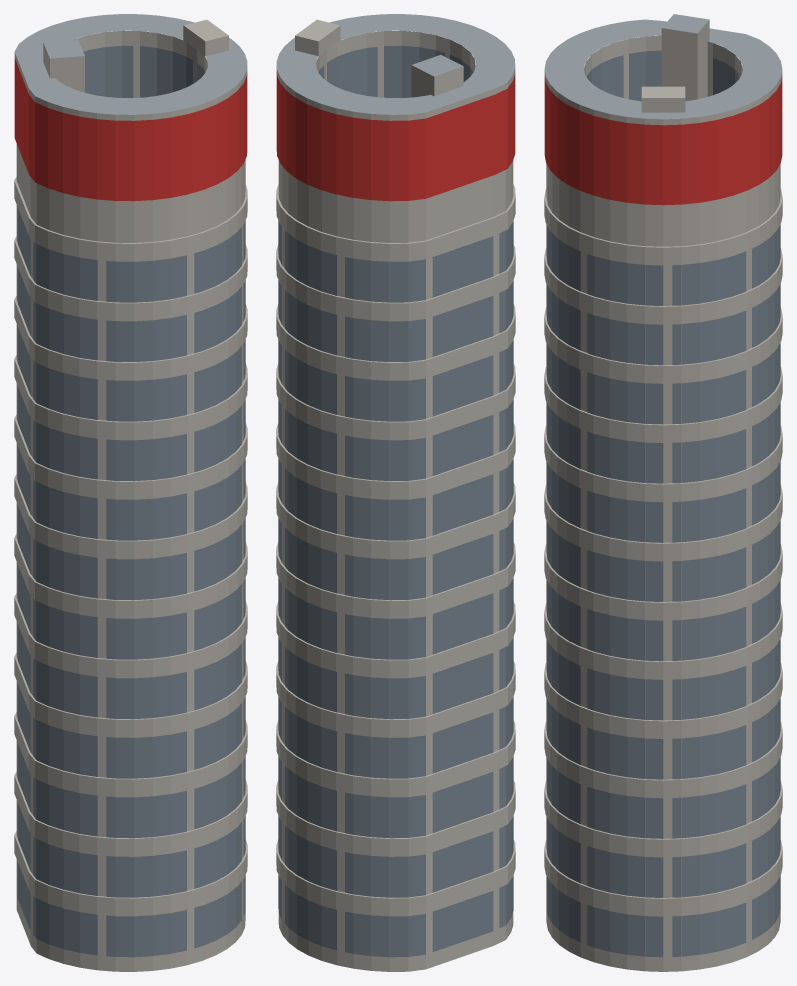
The model's file is johannesburg-ponte-city.glb.
The picture shows the model from 3 angles, left to right: view 1: azimuth 30°, elevation 25°; view 2: azimuth 150°, elevation 25°; view 3: azimuth 270°, elevation 25°; orthographic projection.
Parts seen in each view (by area): view 1: Ponte City; view 2: Ponte City; view 3: Ponte City.
Part boxes in pixels (x1,y1,x2,y2): Ponte City: (14,14,247,971); Ponte City: (276,14,515,971); Ponte City: (544,14,782,971).
Bounding box in the file's own units: 43.53 × 177 × 43.8.
